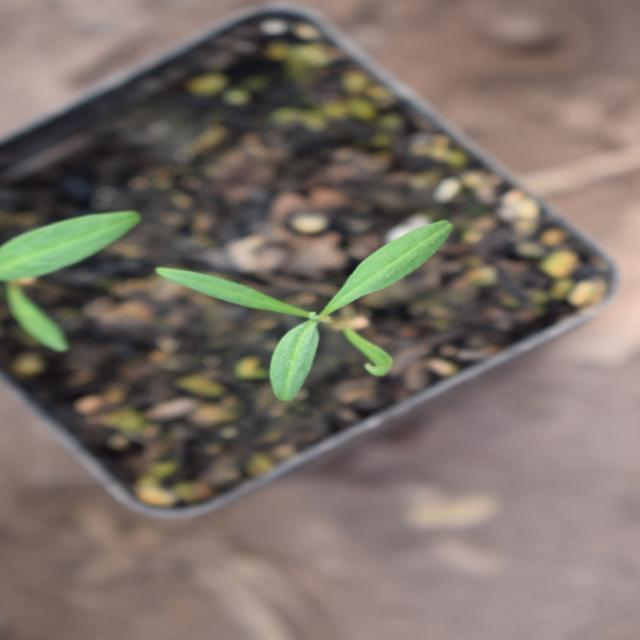white_smart_weed: (225, 121, 473, 492)
